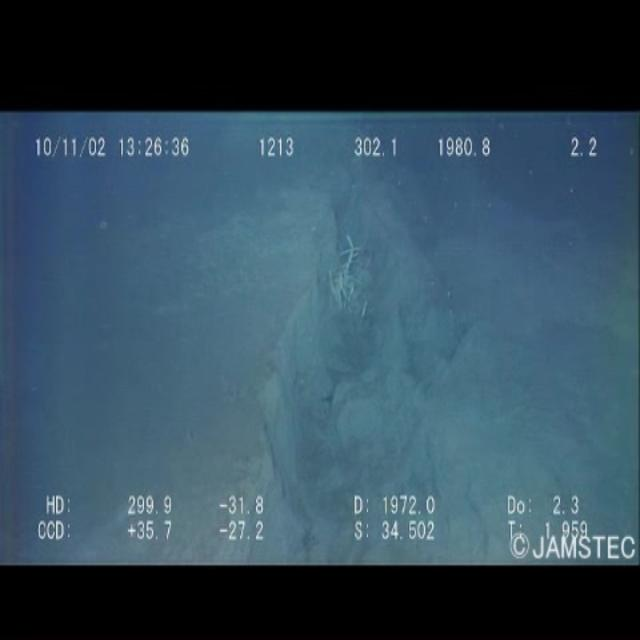Rope: (315, 224, 397, 338)
